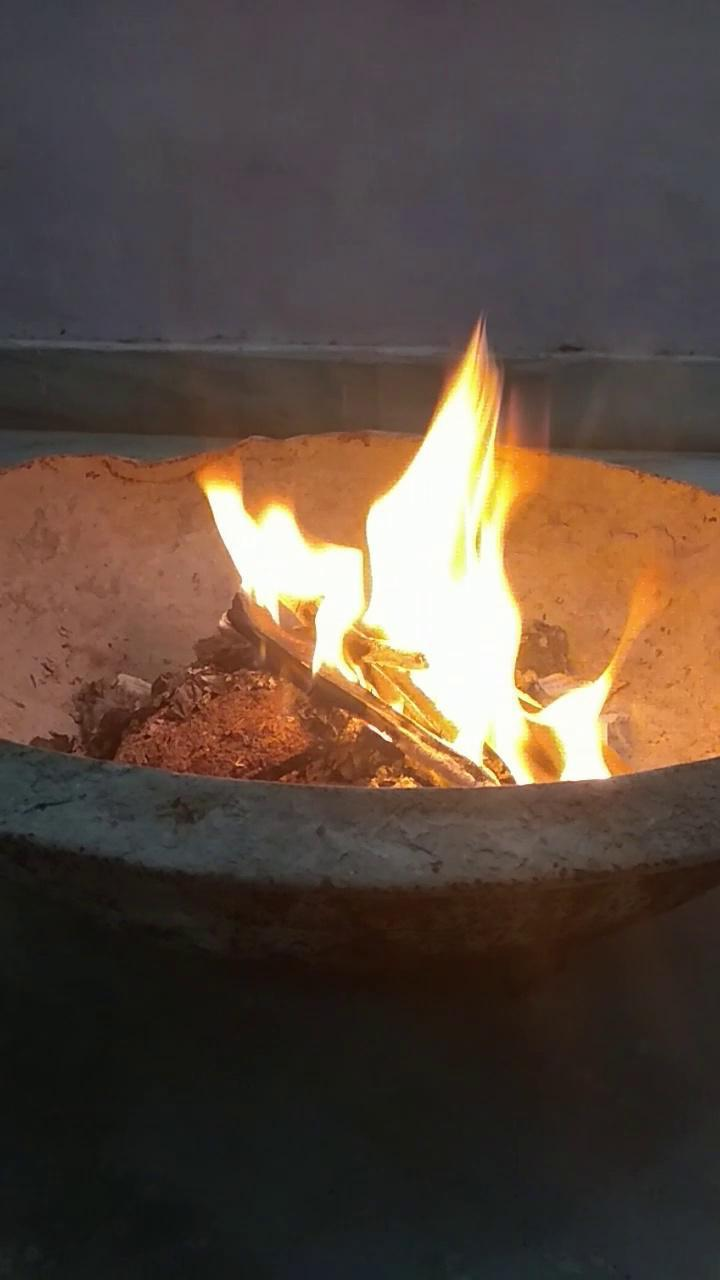fire: (171, 294, 645, 833)
